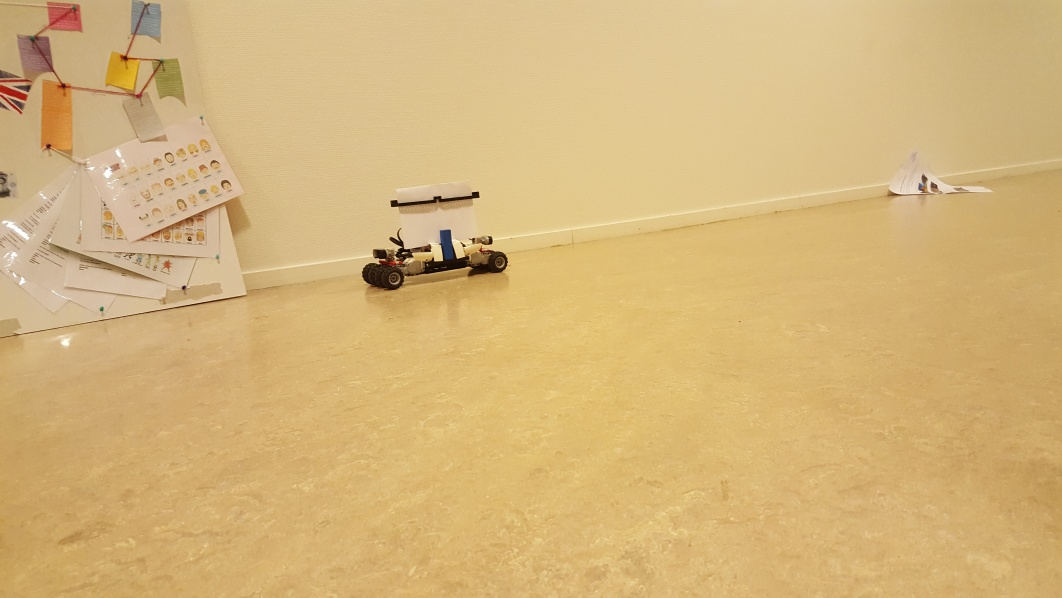car: (361, 180, 510, 288)
